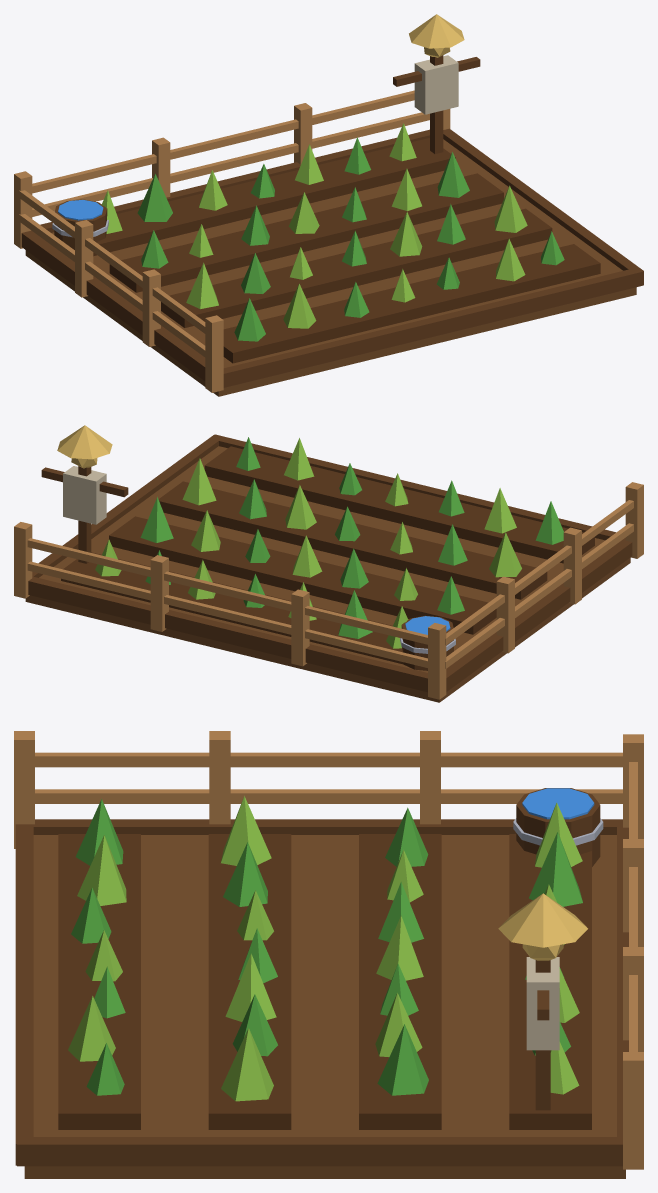
The model's file is Farm.fbx.
The picture shows the model from 3 angles, top to bottom: view 1: azimuth 30°, elevation 25°; view 2: azimuth 150°, elevation 25°; view 3: azimuth 270°, elevation 25°; orthographic projection. The views are drawn at different scales.
Parts seen in each view (by area): view 1: Farm; view 2: Farm; view 3: Farm.
Part boxes in pixels (x1,y1,x2,y2): Farm: (14,14,643,396); Farm: (14,425,643,702); Farm: (14,731,643,1178).
Size of the model in its own units: 5.22 by 1.91 by 4.19.
